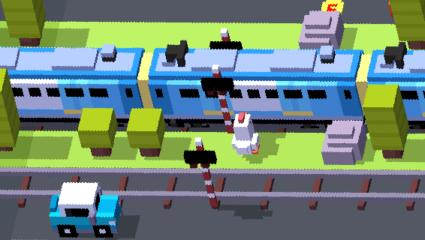hen: (232, 113, 260, 155)
obstacle: (150, 48, 425, 114), (2, 45, 143, 121), (51, 183, 124, 237), (365, 83, 408, 159), (2, 0, 42, 47), (322, 121, 361, 164), (79, 108, 117, 152), (392, 1, 425, 49), (301, 12, 341, 48), (129, 108, 162, 150), (0, 84, 20, 152), (408, 41, 425, 49)
